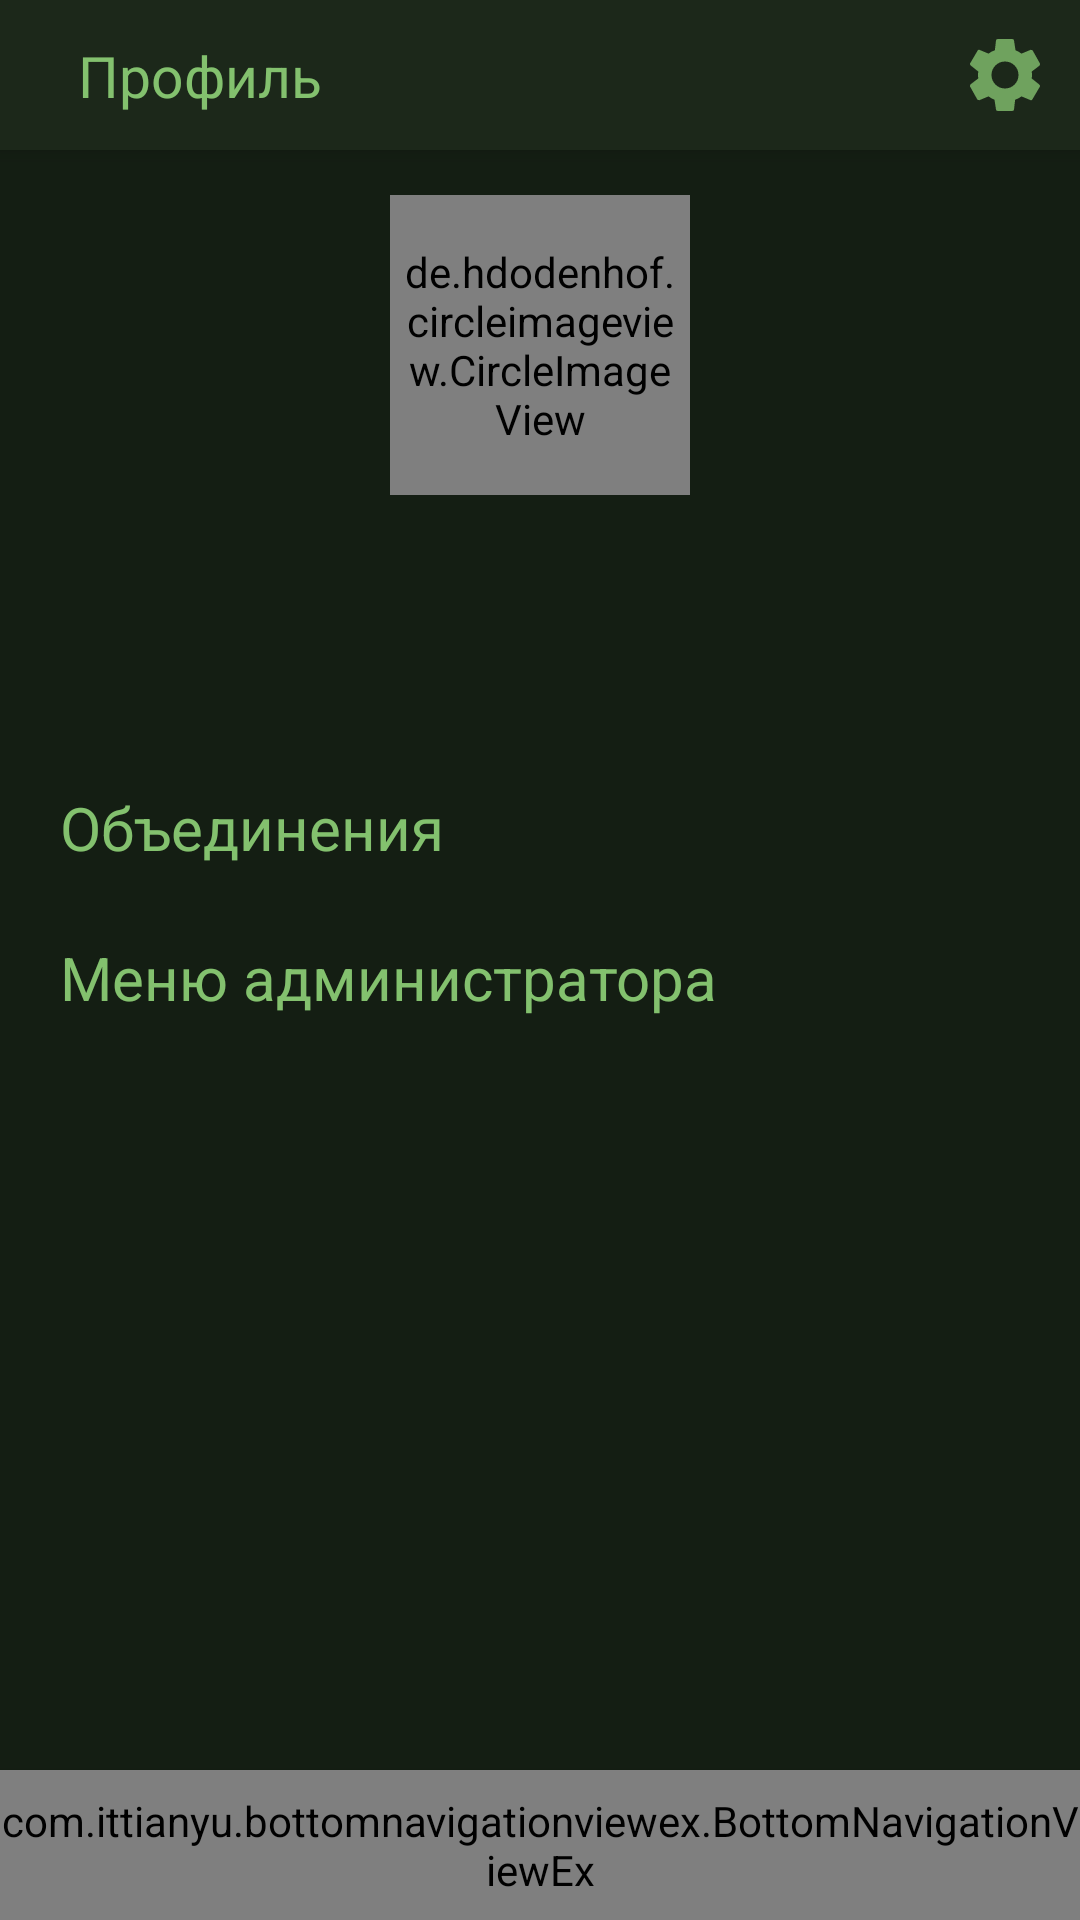

Icons on this 1080px x 1920px Android screen, each with the point to tap as (x=x, y=y):
setting: (x=1005, y=75)
